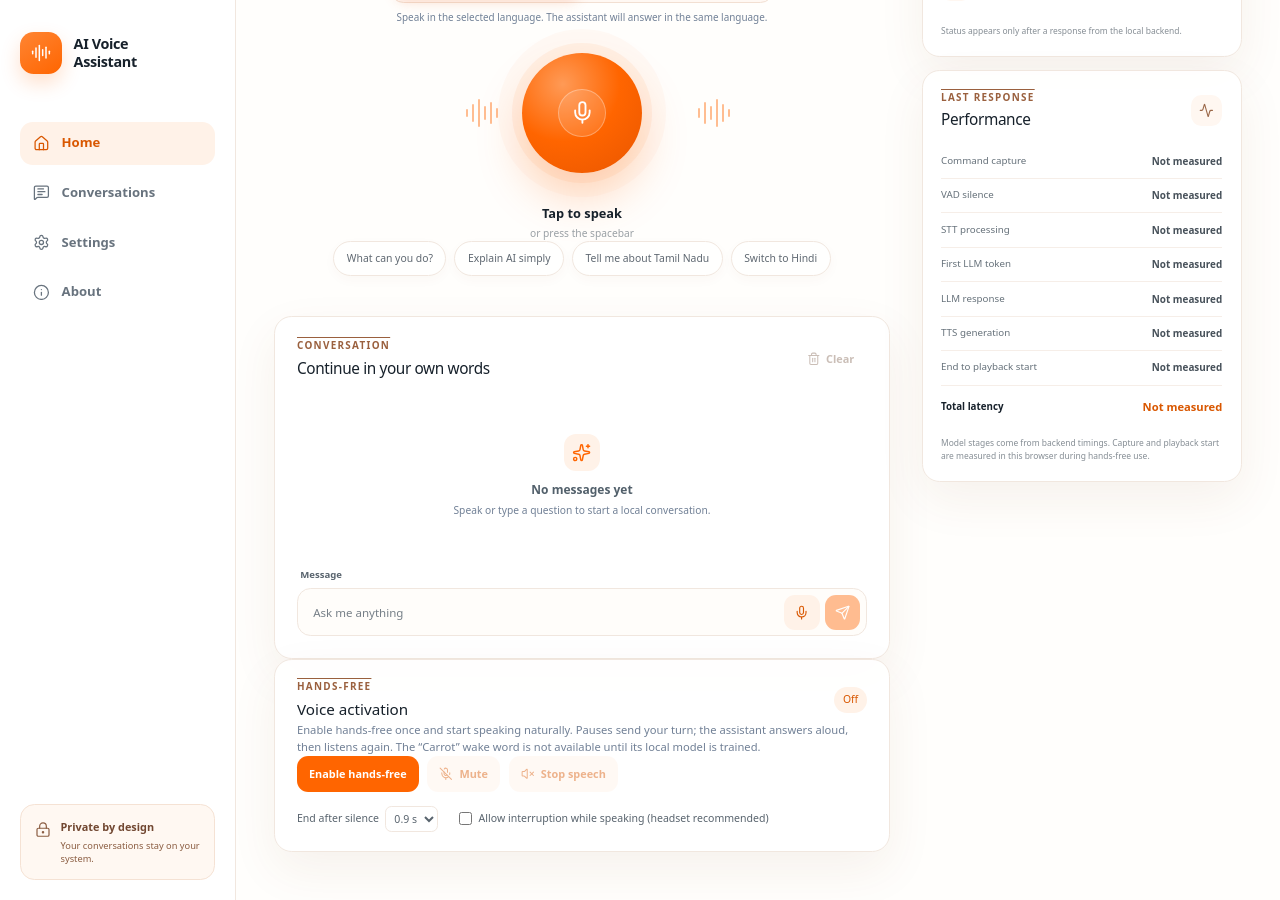
Test case: AI Voice Assistant › explains continuous hands-free listening and handles an unsupported microphone
(page scrolled)
Expected: the text "Enable hands-free once and start speaking naturally" is shown, x1=297 y1=722 x2=848 y2=754
Click the button "Enable hands-free" at (358, 774), box x1=297 y1=756 x2=419 y2=792
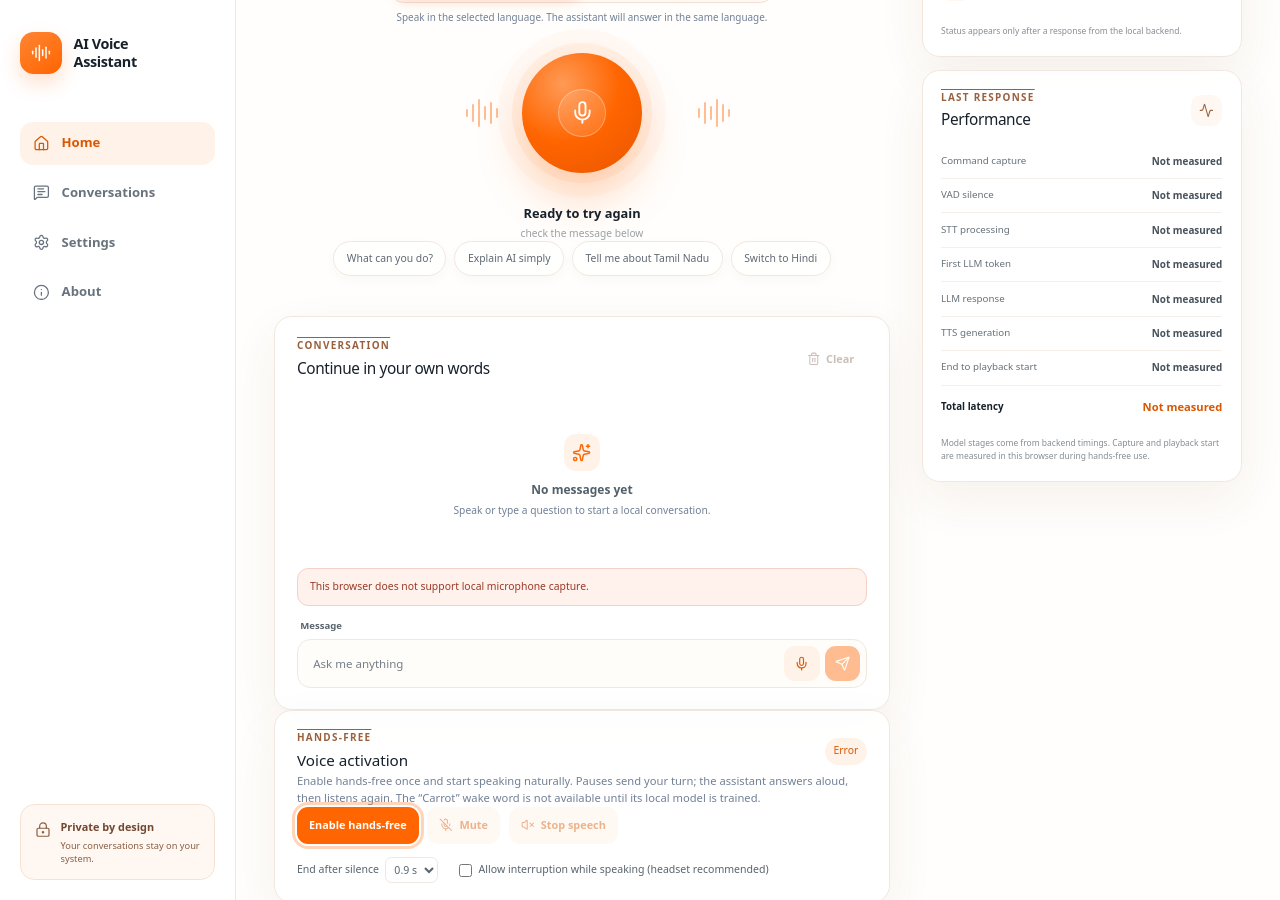
Now the message "This browser does not support local microphone capture." is shown, box x1=297 y1=568 x2=867 y2=606
Now the message "error" is shown, box x1=825 y1=738 x2=867 y2=765
